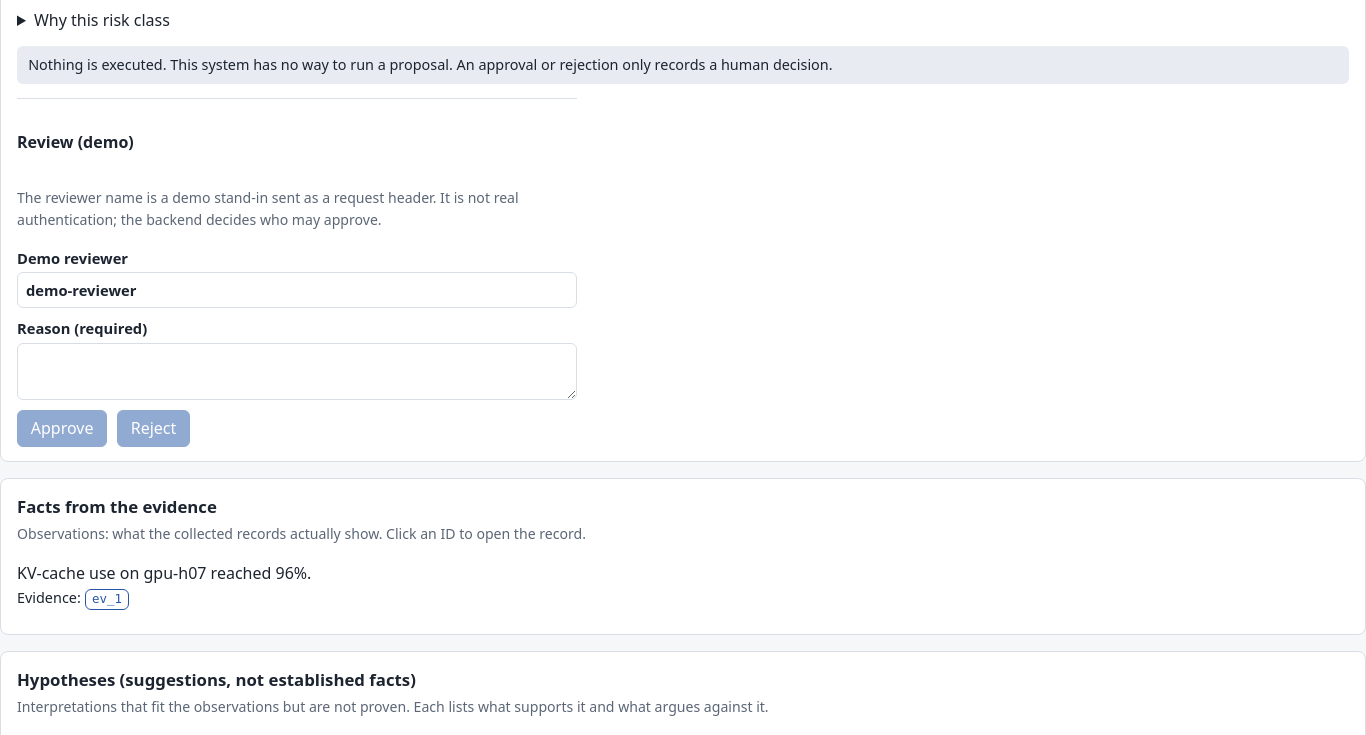
Test case: RunPage: proposal and approval › needs a reason before a decision can be sent
(page scrolled)
Expected: the button "Approve" is disabled, [17,410,107,447]
In the text box labelled "Reason (required)": (297, 371) [17,343,577,400], type "ok"
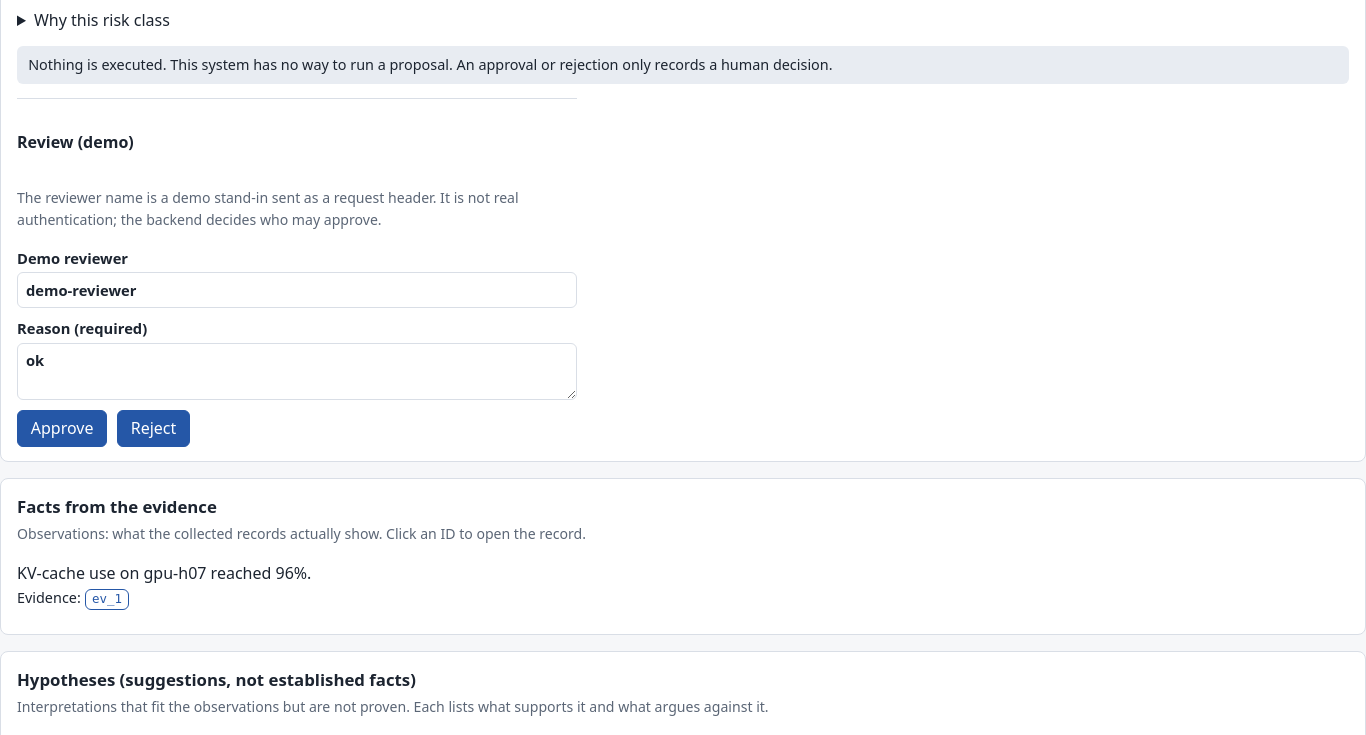
Expected: the button "Approve" is enabled, [17,410,107,447]
